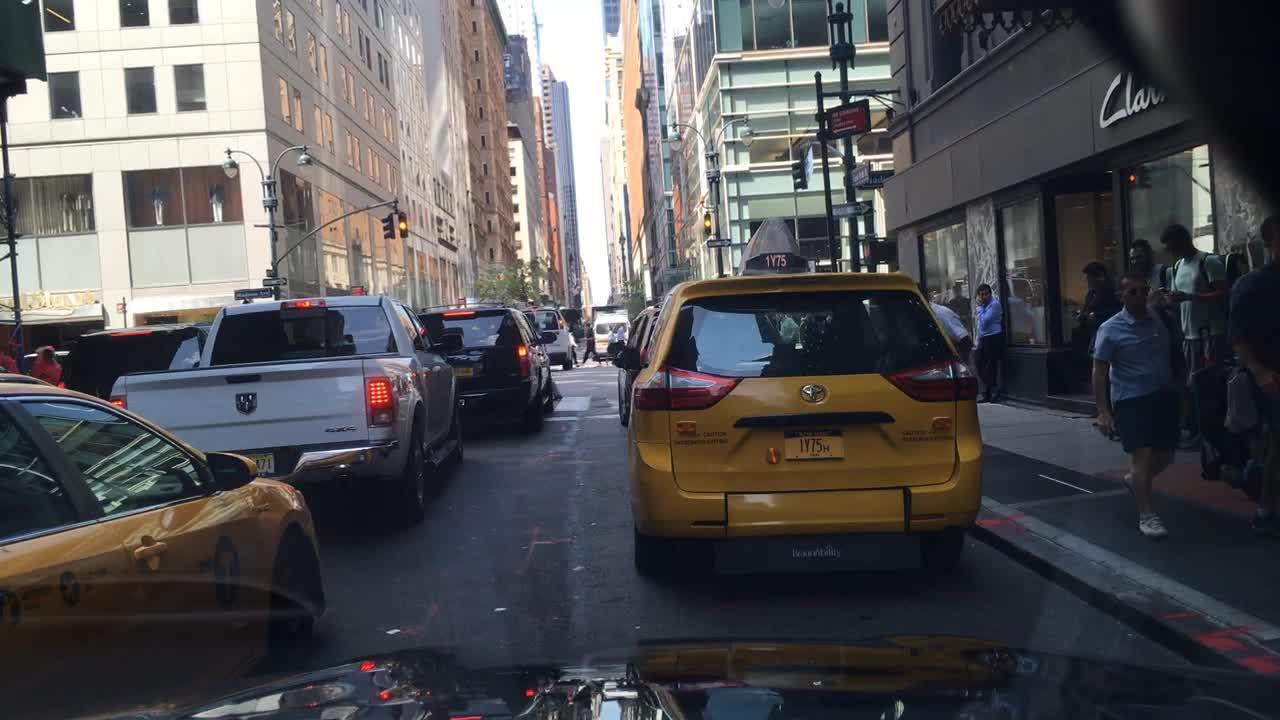Toyota: (789, 373, 850, 415)
ram: (230, 387, 265, 423)
